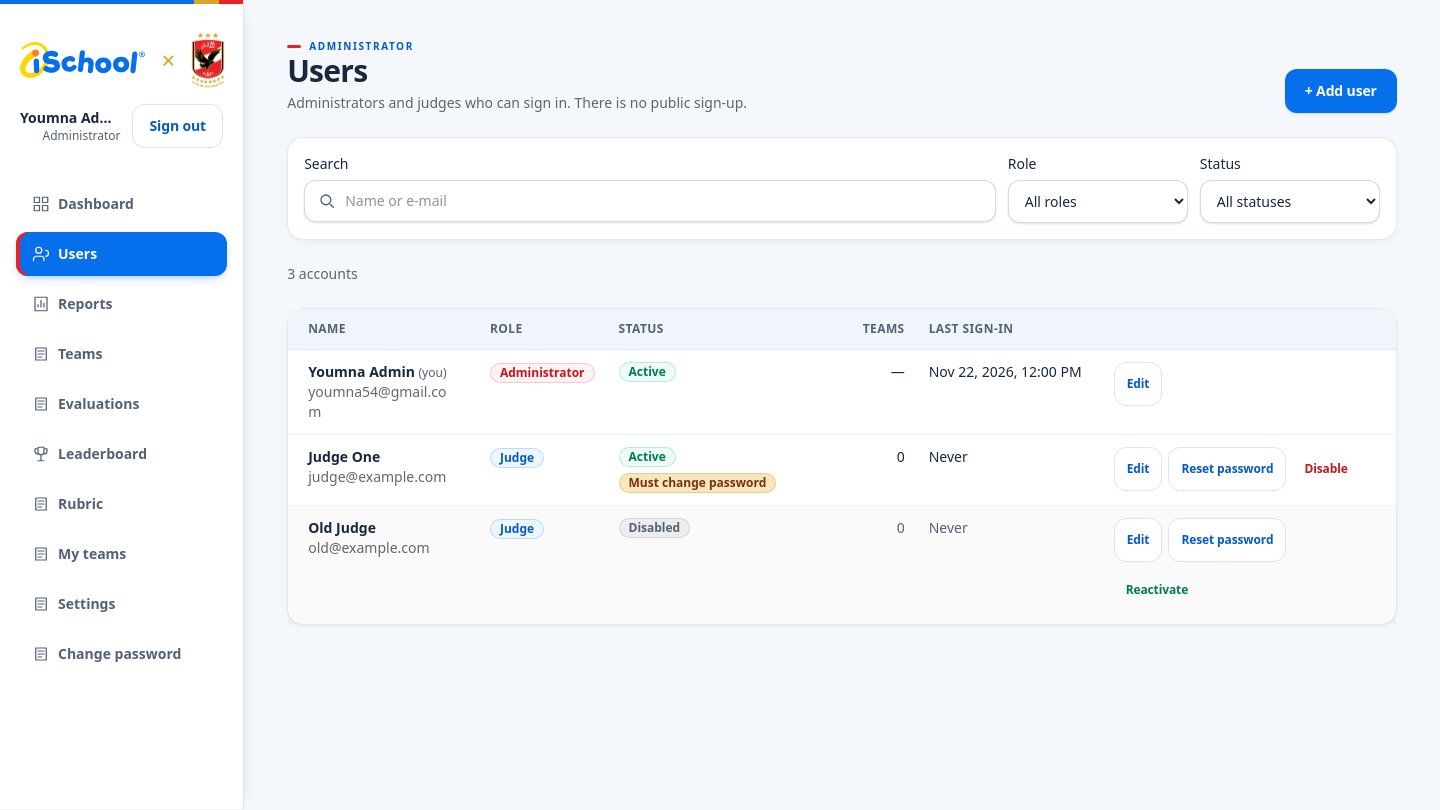
Test: Users page › resets a password after confirmation and shows the new temporary password
The image size is (1440, 810).
expect the table is shown: met, box [288,309,1396,624]
Click the button with aria-label "Reset password for Judge One" at {"x": 1227, "y": 469}, box [1168,447,1286,491]
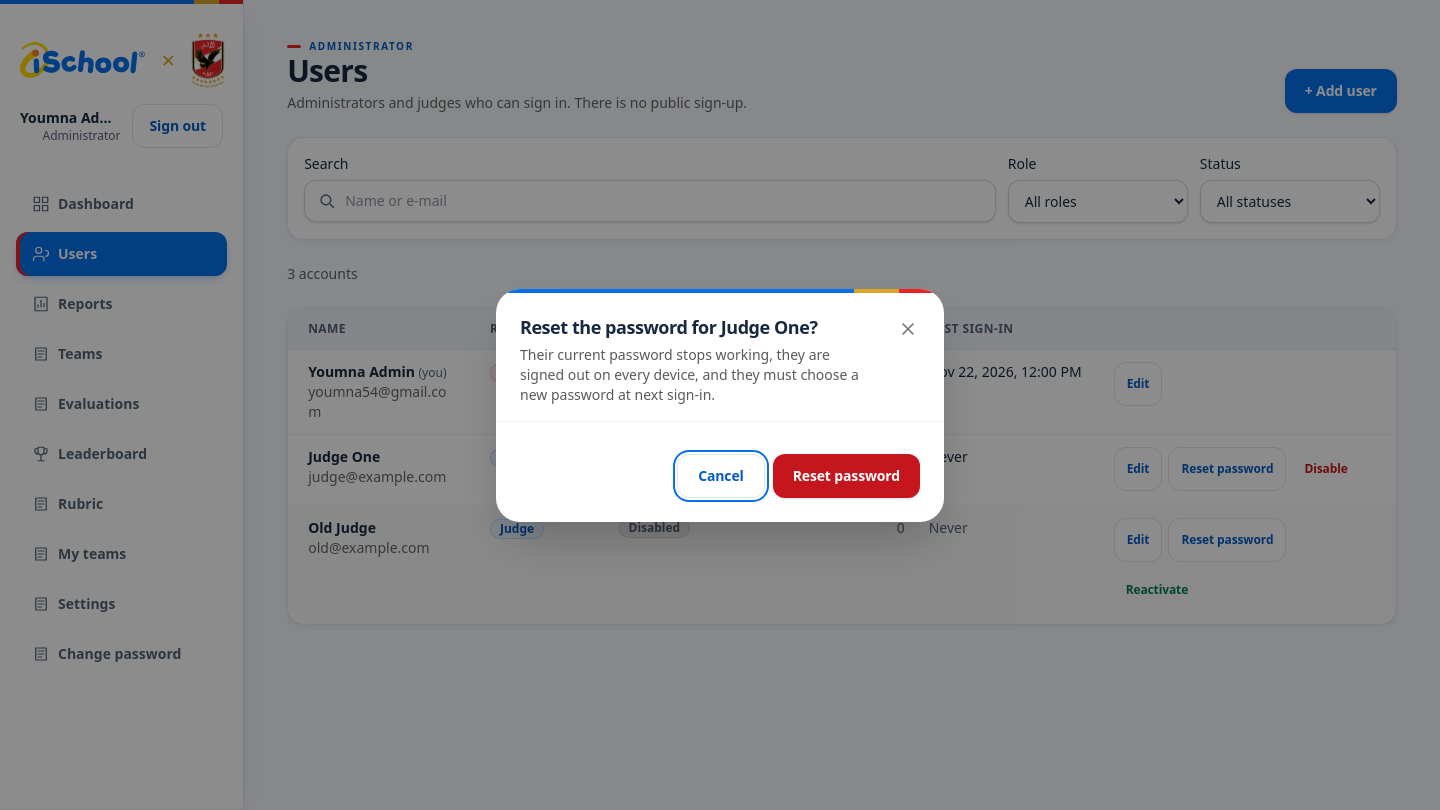
Click the button "Reset password" at {"x": 846, "y": 476}, box [773,454,920,498]
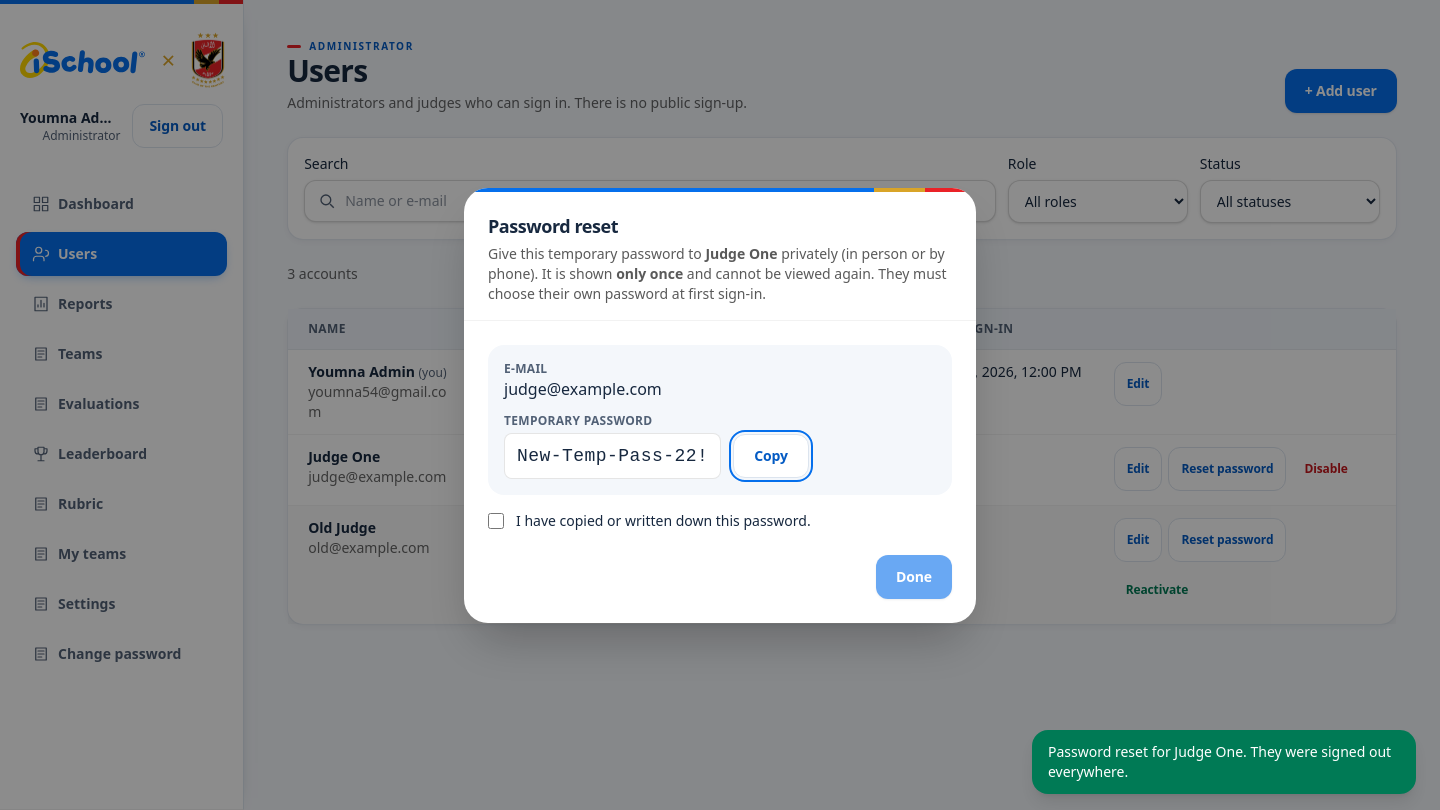
expect the text with test id "temporary-password" reads "New-Temp-Pass-22!": met, box [517,446,708,466]
